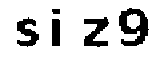9: (115, 7, 150, 48)
i: (48, 4, 67, 50)
s: (12, 16, 41, 49)
z: (78, 16, 110, 49)
